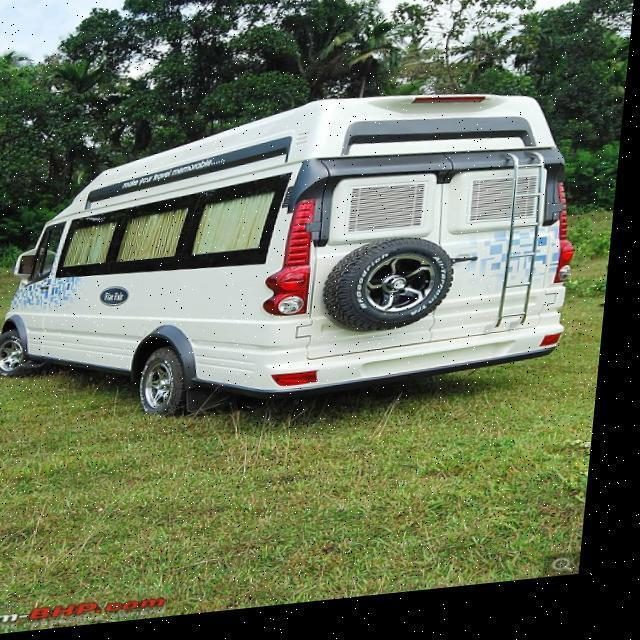Ambulance: (0, 82, 596, 440)
